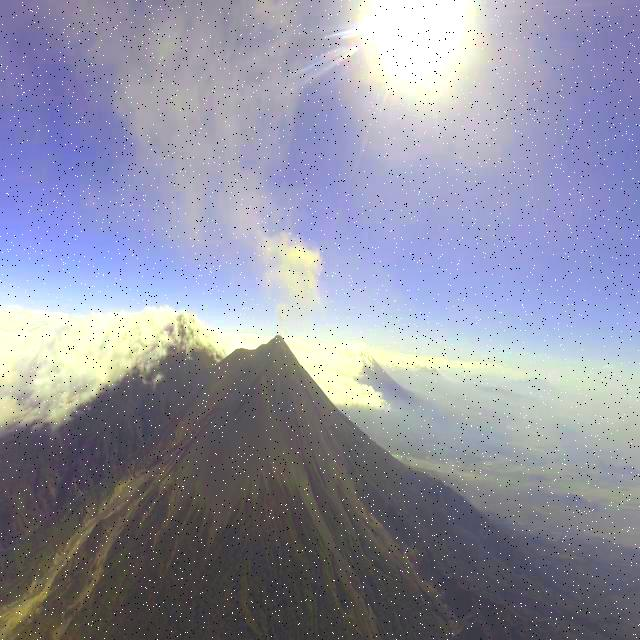Plume: (262, 226, 322, 321)
Summit: (256, 332, 296, 362)
